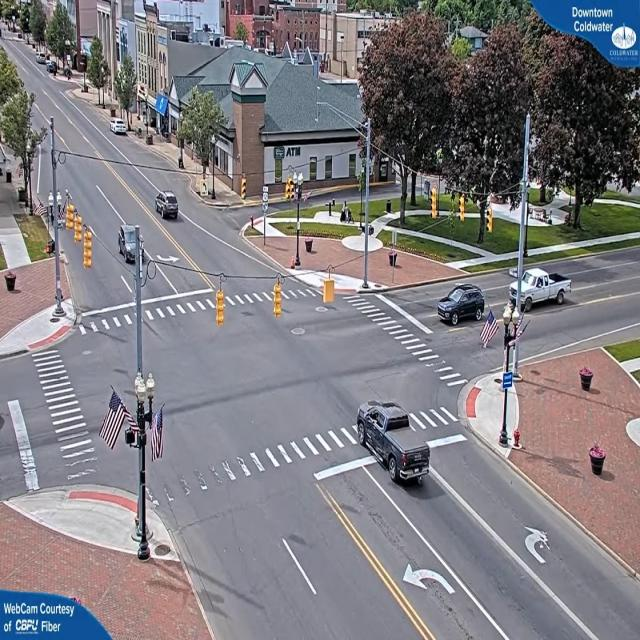car: (355, 401, 431, 485), (438, 282, 487, 326), (526, 268, 572, 311), (117, 224, 144, 262), (154, 192, 180, 221), (112, 121, 130, 138)
